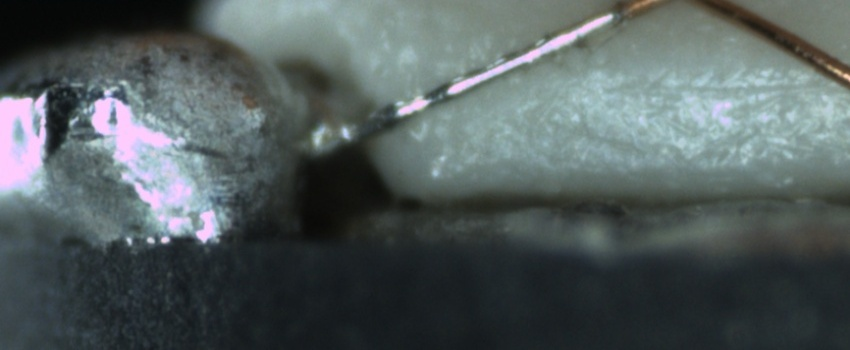DL: (608, 52, 850, 112)
TS: (303, 7, 622, 157)
